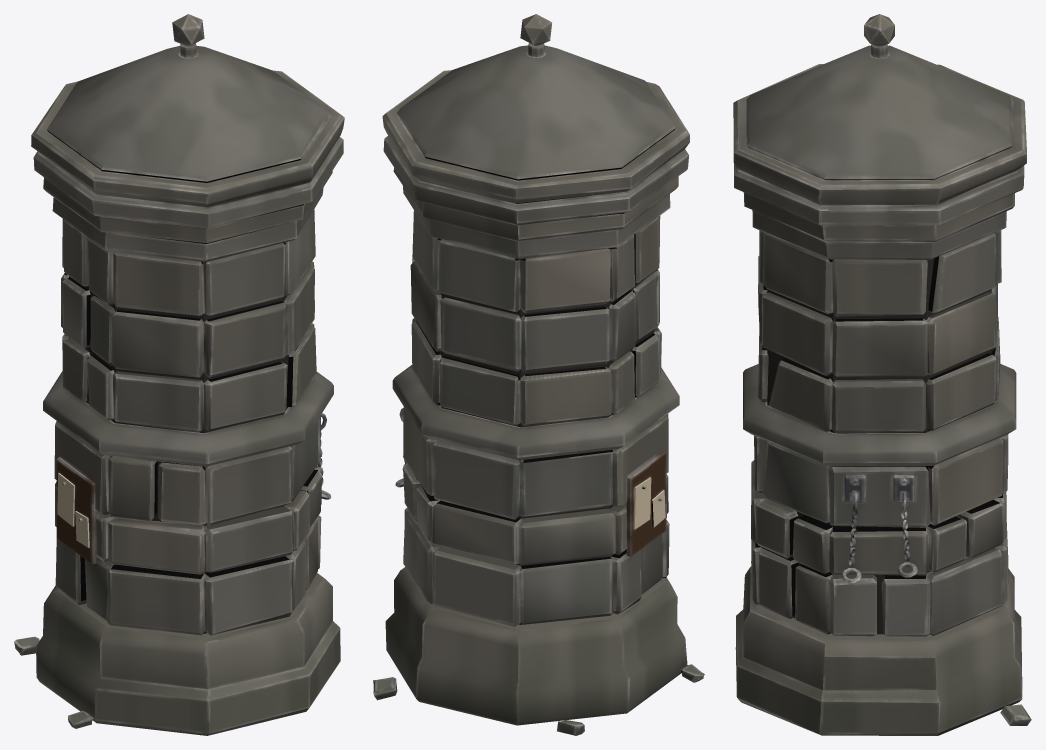
The model's file is gallows_pillar.glb.
3 views of the same model, side by side, from view 1: azimuth 30°, elevation 25°; view 2: azimuth 150°, elevation 25°; view 3: azimuth 270°, elevation 25° (orthographic). The views are drawn at different scales.
Visible parts, largest first — view 1: gallows_pillar; view 2: gallows_pillar; view 3: gallows_pillar.
Part boxes in pixels (x1,y1,x2,y2): gallows_pillar: (14,14,344,735); gallows_pillar: (373,14,704,735); gallows_pillar: (733,14,1031,735).
Bounding box in the file's own units: 2.58 × 6.05 × 2.45.
Materials: 1 (1 with a texture image).
